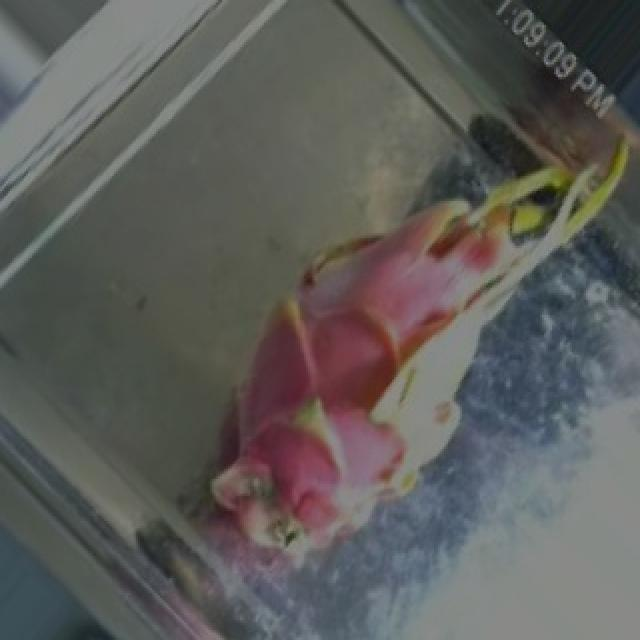fruit: (116, 176, 550, 610), (222, 42, 640, 449)
